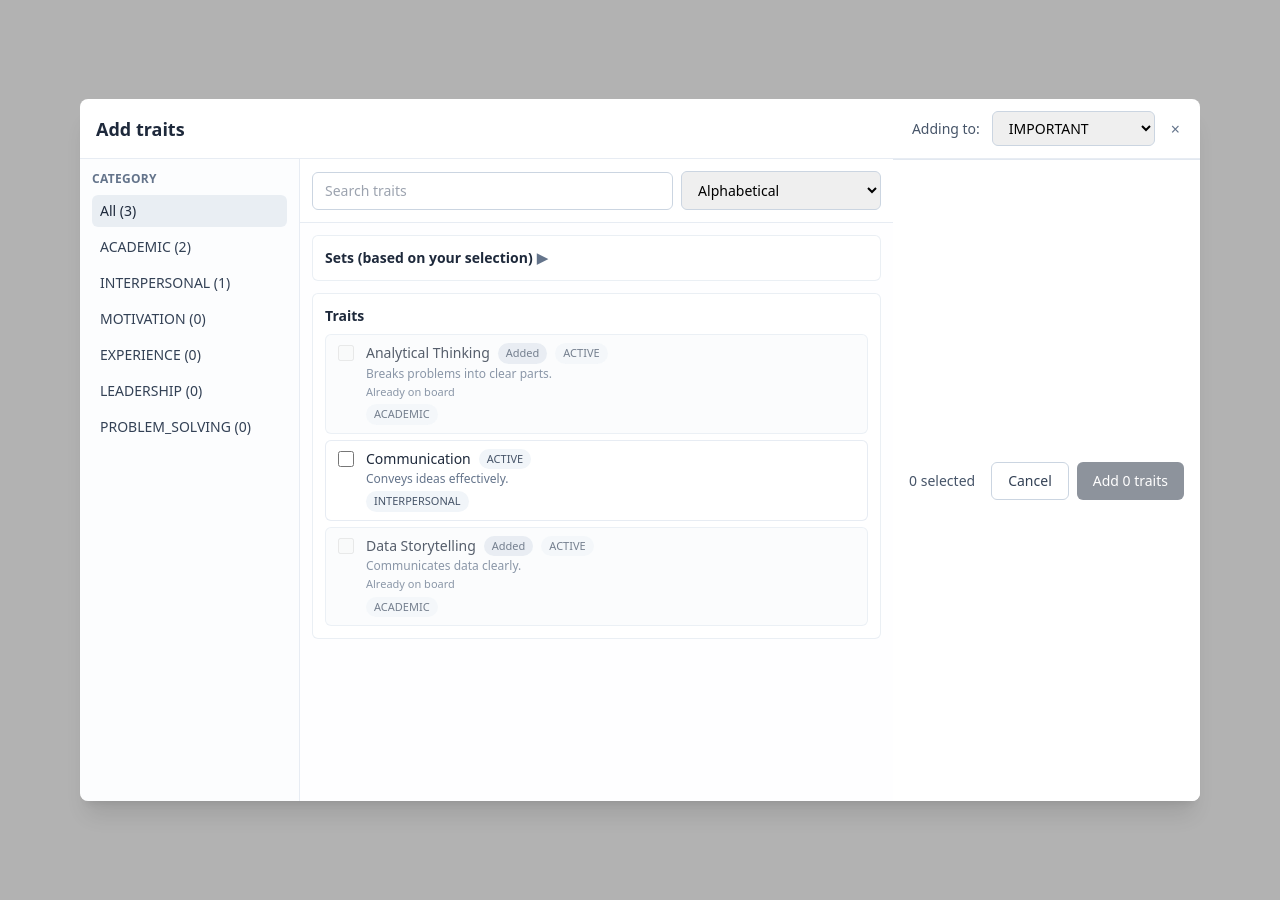
Scenario: TraitPickerModal › shows a notice when selecting a set that is fully unavailable
The image size is (1280, 900).
Click the button with aria-label "Expand sets".
click(429, 258)  # box [325, 248, 868, 268]
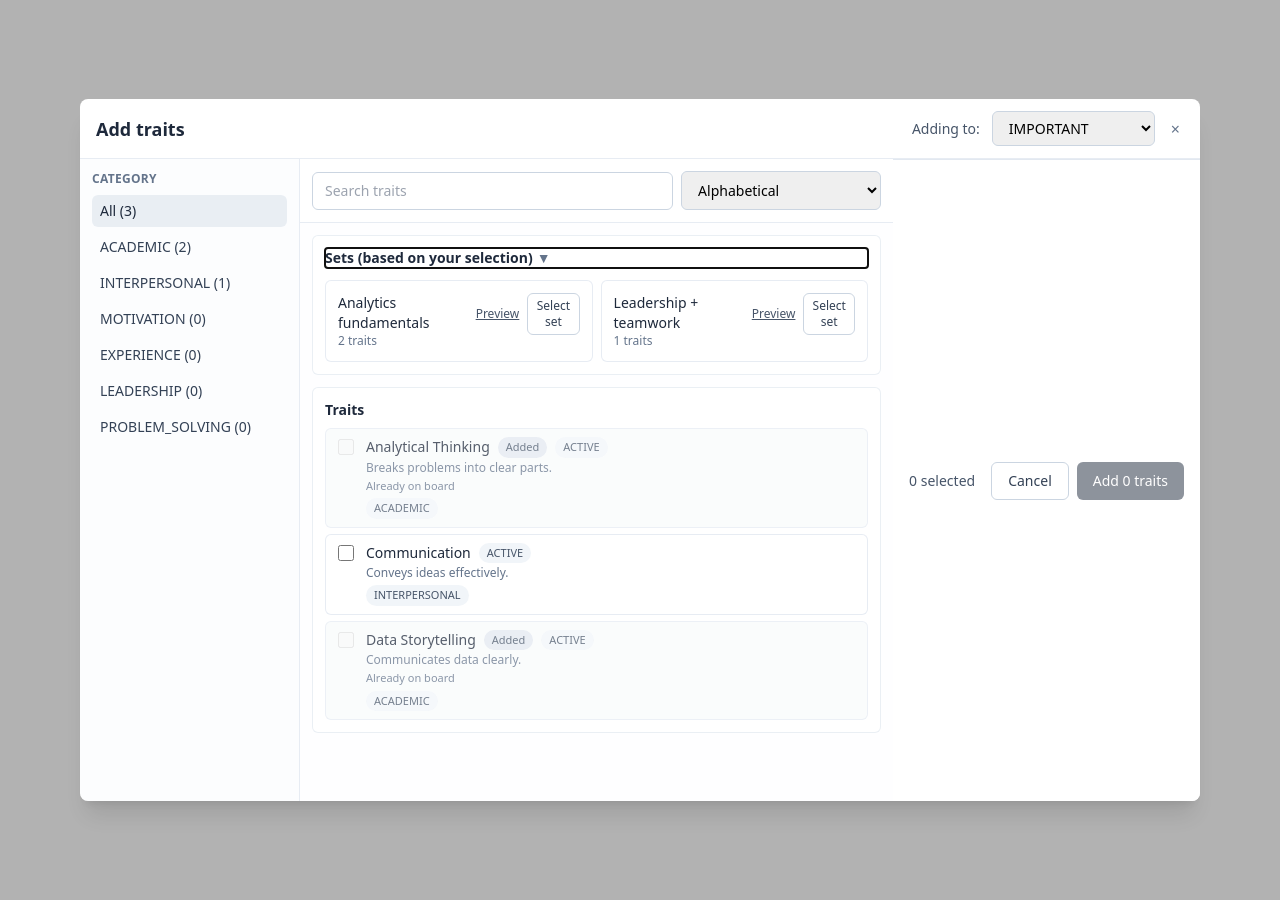
Click the button with aria-label "Select set Analytics fundamentals".
click(553, 314)  # box [527, 293, 580, 335]
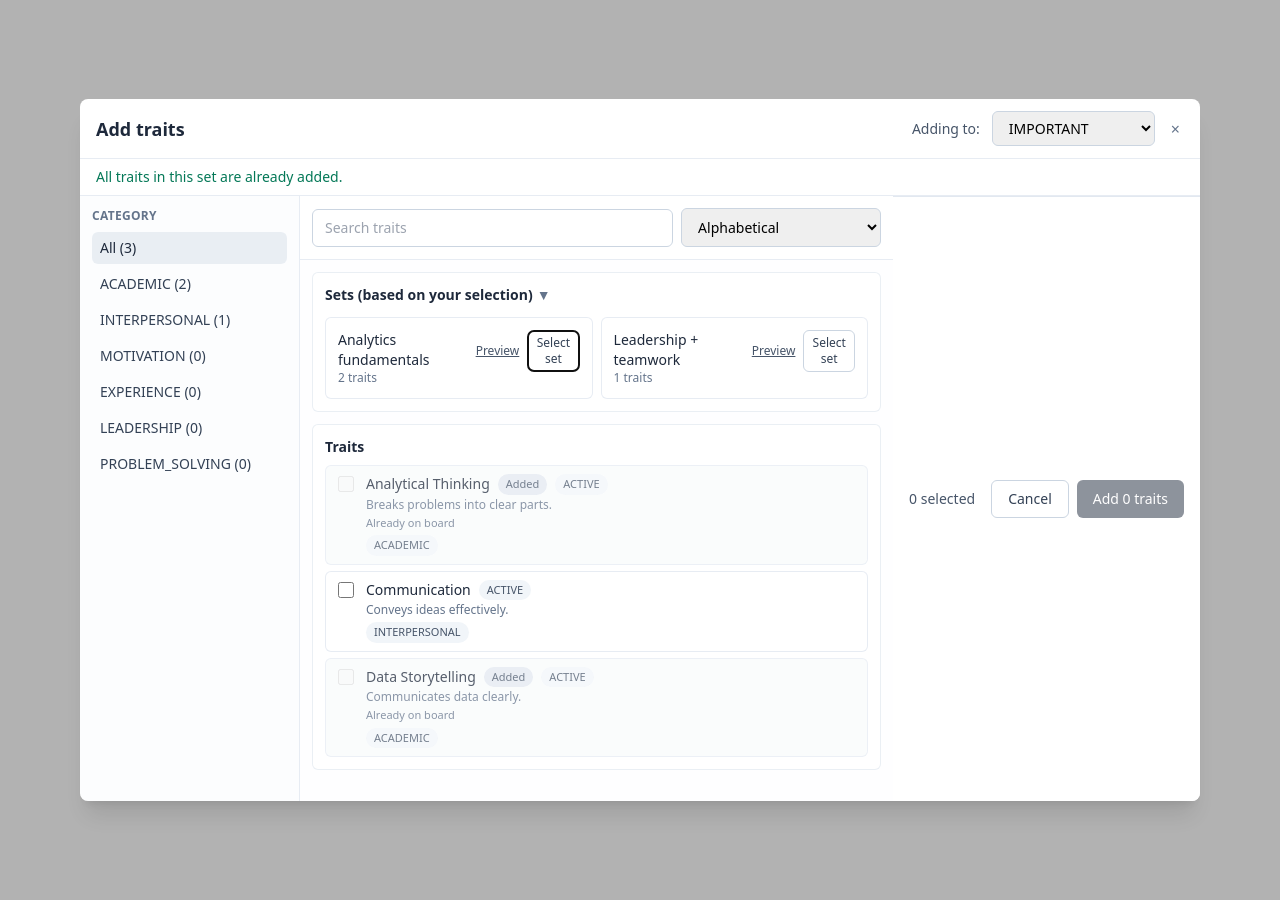
Expected: the text "All traits in this set are already added." is shown, [96, 167, 342, 186]
